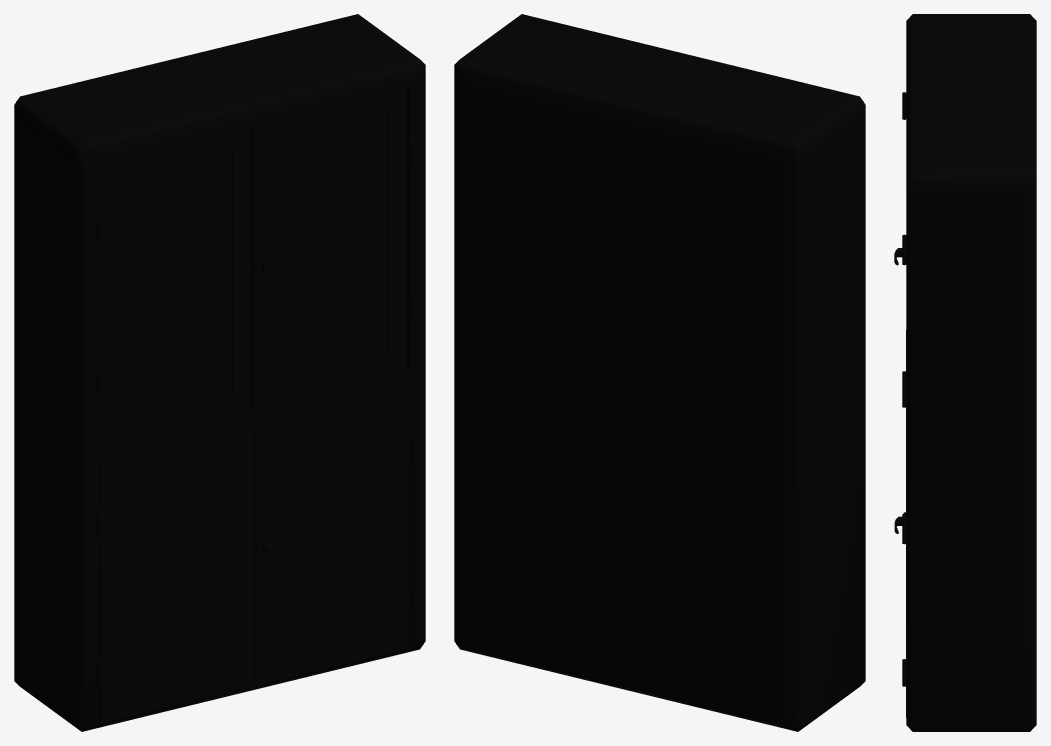
Rendered from cabinet.fbx.
3 views of the same model, side by side, from view 1: azimuth 30°, elevation 25°; view 2: azimuth 150°, elevation 25°; view 3: azimuth 270°, elevation 25° (orthographic). The views are drawn at different scales.
Visible parts, largest first — view 1: polySurface62; view 2: polySurface62; view 3: polySurface62.
Part boxes in pixels (left/top/right/bottom): polySurface62: left=14, top=14, right=425, bottom=731; polySurface62: left=454, top=14, right=865, bottom=731; polySurface62: left=894, top=14, right=1036, bottom=731.
Size of the model in its own units: 6.06 by 9.77 by 2.24.
2 materials, 2 textured.
